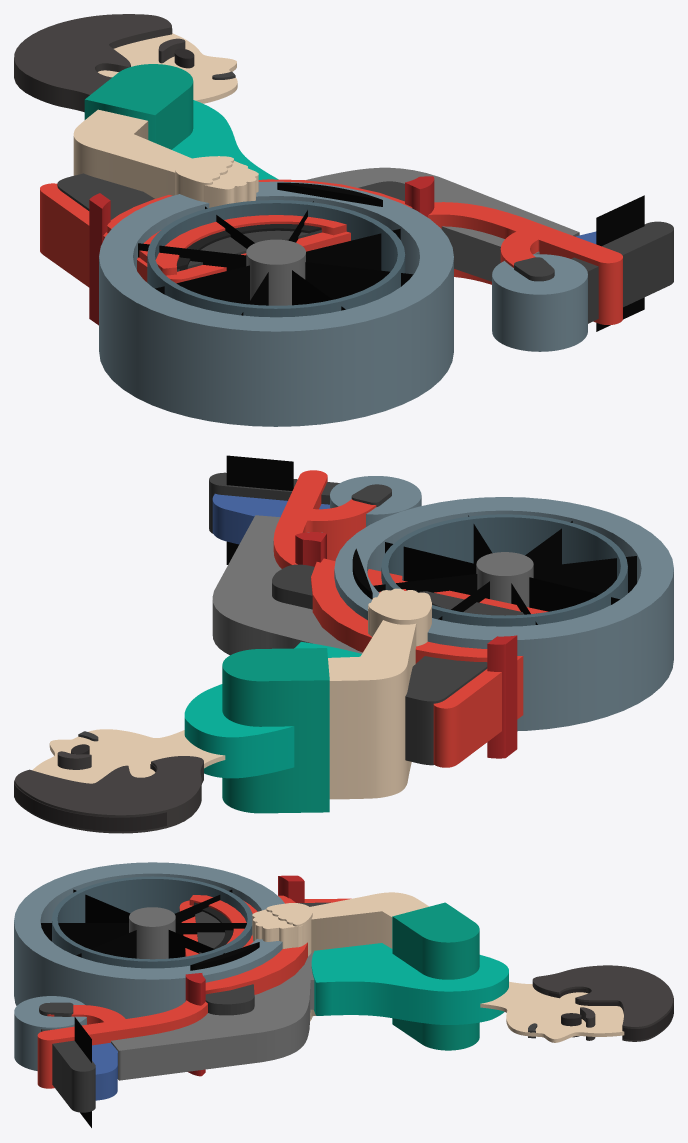
Rendered from emoji_u1f468_1f3fb_200d_1f9bd_200d_27a1.glb.
The picture shows the model from 3 angles, top to bottom: view 1: azimuth 30°, elevation 25°; view 2: azimuth 150°, elevation 25°; view 3: azimuth 270°, elevation 25°; orthographic projection. The views are drawn at different scales.
Visible parts, largest first — view 1: emoji_u1f468_1f3fb_200d_1f9bd_200d_27a1; view 2: emoji_u1f468_1f3fb_200d_1f9bd_200d_27a1; view 3: emoji_u1f468_1f3fb_200d_1f9bd_200d_27a1.
Part boxes in pixels (x1,y1,x2,y2): emoji_u1f468_1f3fb_200d_1f9bd_200d_27a1: (14, 14, 673, 426); emoji_u1f468_1f3fb_200d_1f9bd_200d_27a1: (14, 455, 673, 833); emoji_u1f468_1f3fb_200d_1f9bd_200d_27a1: (14, 862, 673, 1127).
Bounding box in the file's own units: 0.0222 × 0.0058 × 0.0321.
